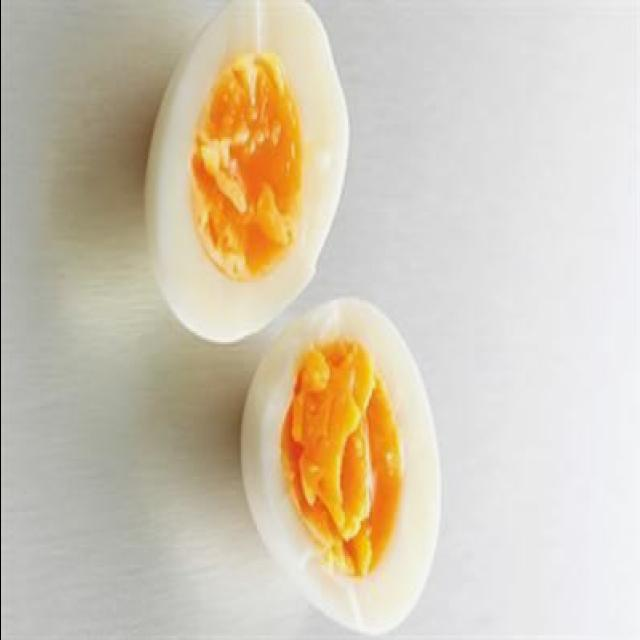telur rebus: (141, 2, 347, 344), (237, 296, 442, 638)
